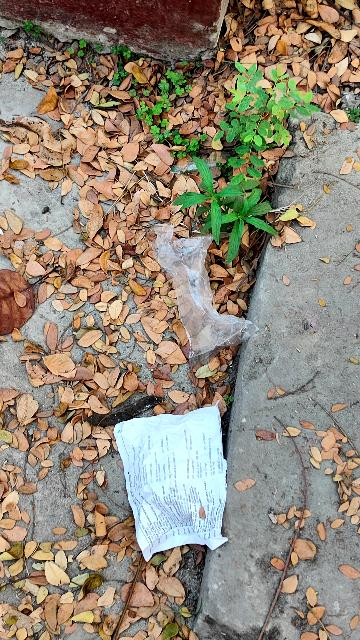polythene: (145, 220, 256, 355)
